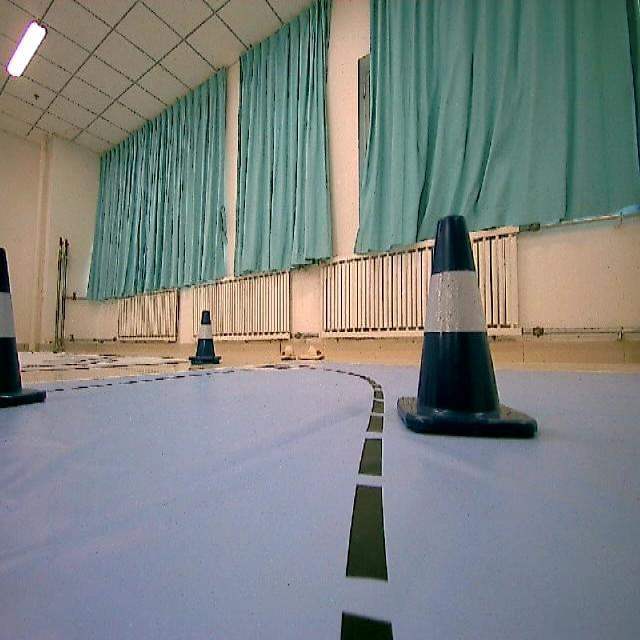obstacle: (394, 204, 546, 456), (186, 306, 225, 368)
